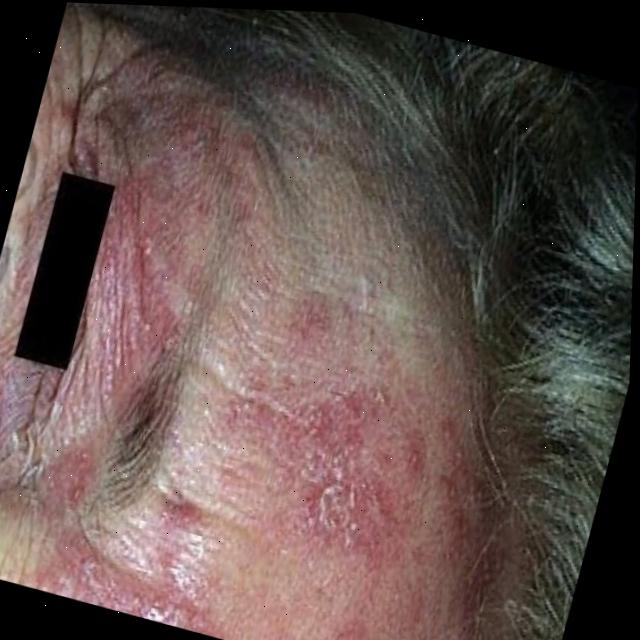Rosacea: (205, 279, 508, 591), (25, 459, 264, 640), (63, 134, 199, 407)
